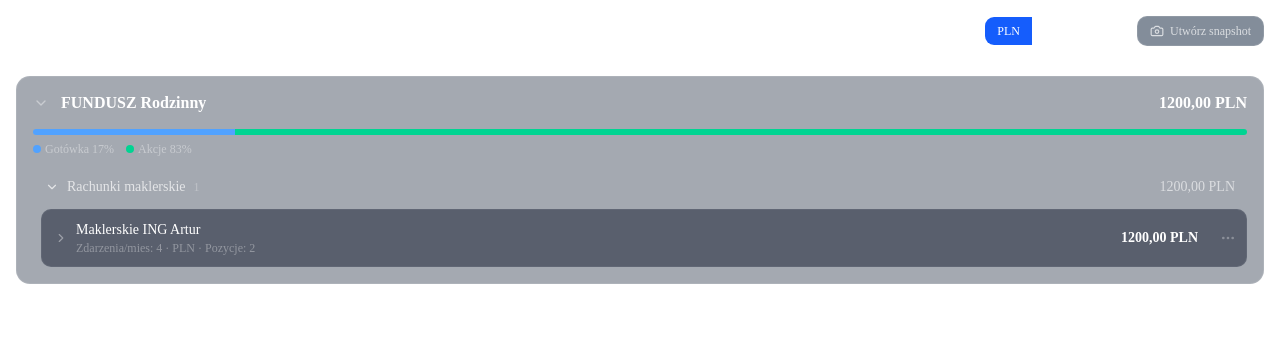
it: WalletManagerPage › shows a controlled snapshot error without refreshing the route
Click the button "Utwórz snapshot" at (1200, 31), box [1137,16,1264,46]
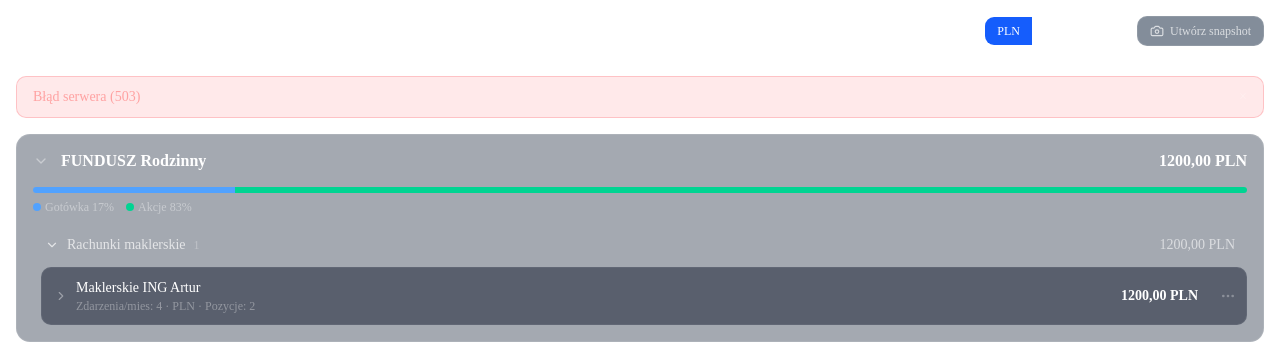
Now the text "Błąd serwera (503)" is shown, box [33,87,140,107]
